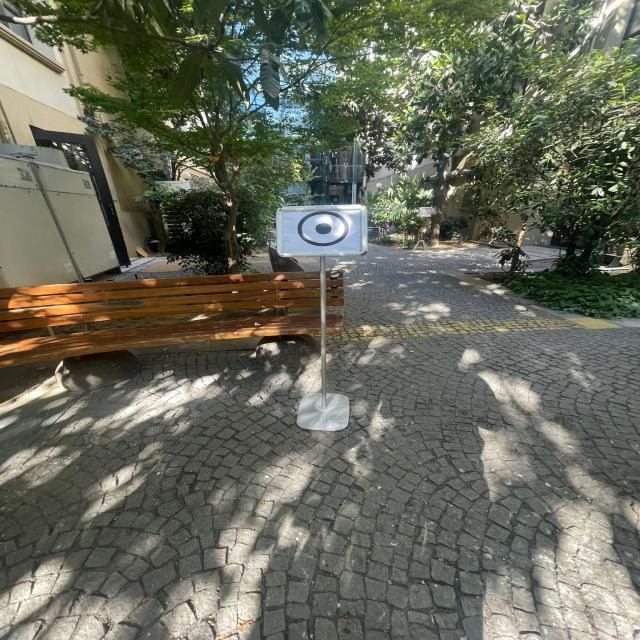Target: (266, 196, 381, 262)
inner: (314, 220, 336, 240)
